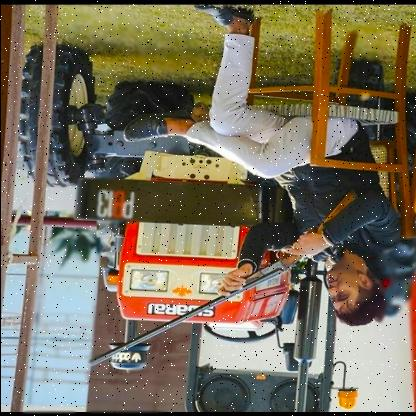rifle: (84, 184, 360, 368)
